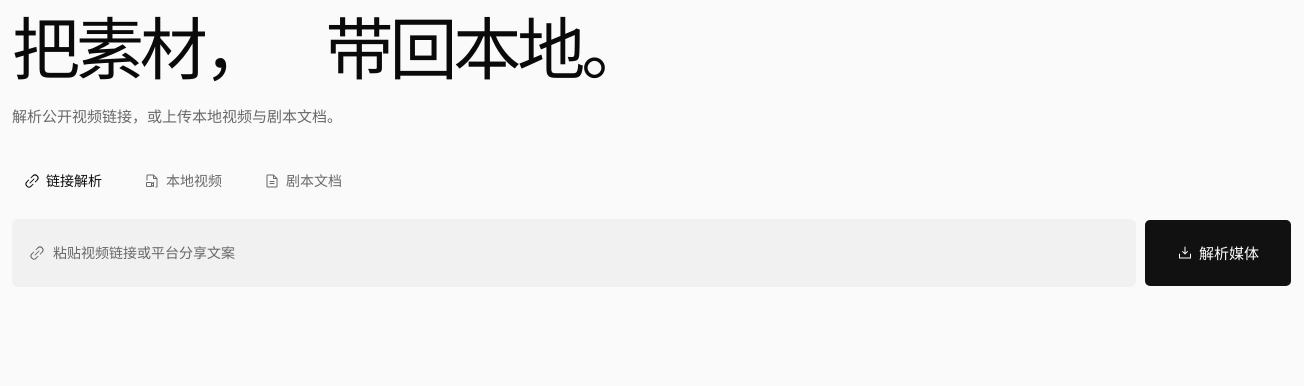
Test case: DownloadWorkspace › offers screenplay import from the same home intake
The width and height of the screenshot is (1304, 386).
Press the mouse on the tab "剧本文档": point(303, 181) [255, 162, 351, 200]
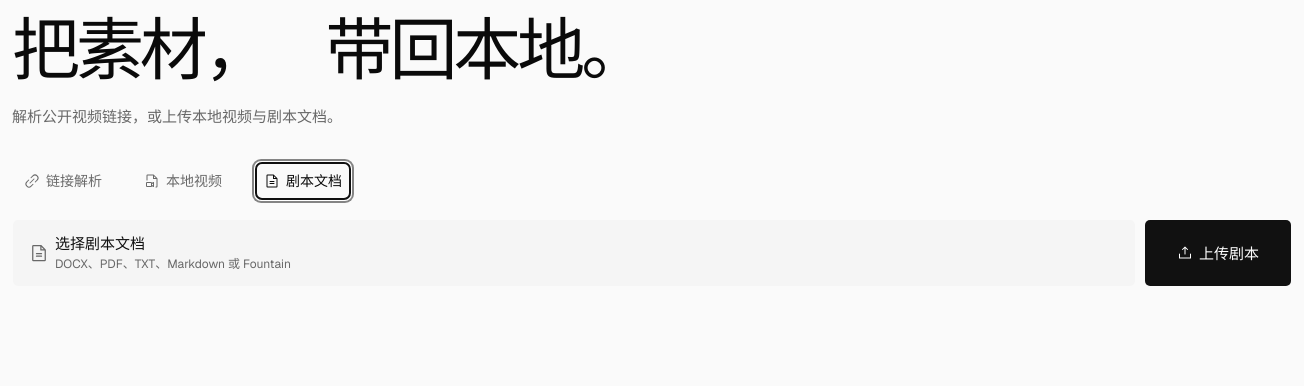
Click the button "上传剧本": point(1218, 253) [1144, 219, 1292, 287]
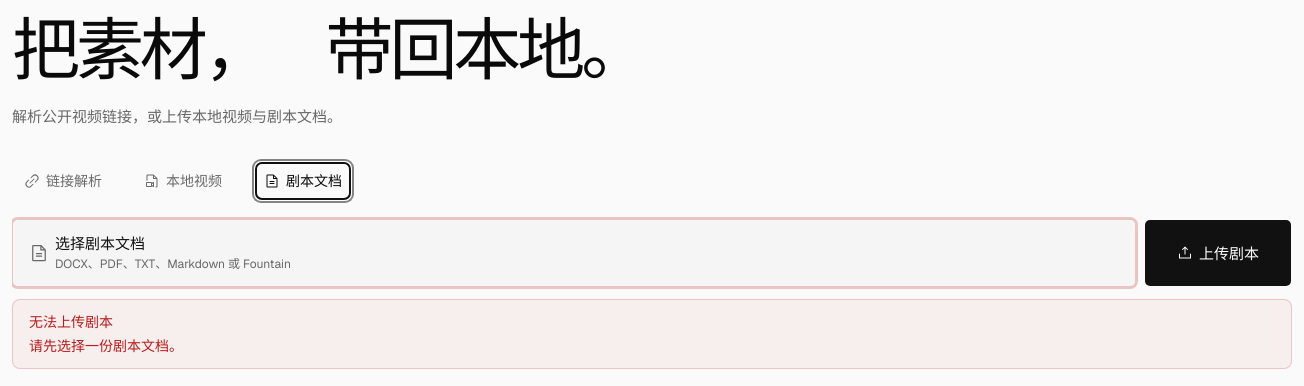
expect the text "请先选择一份剧本文档。" is shown: met, box [29, 337, 183, 355]
